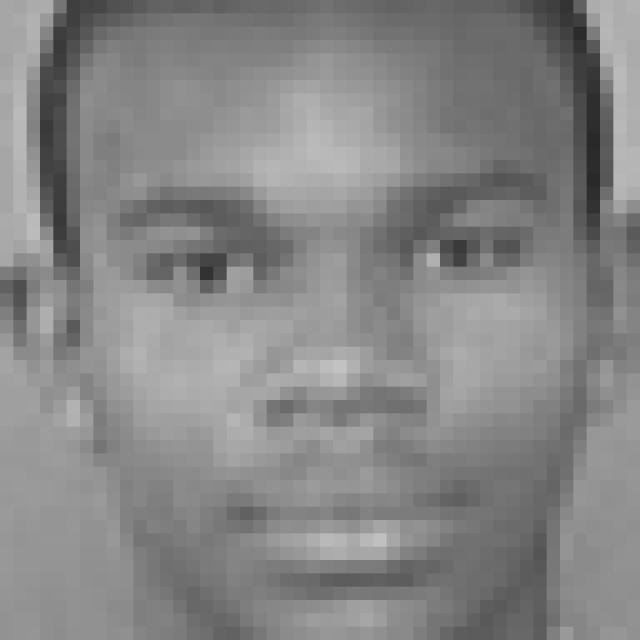neutral: (116, 169, 558, 608)
